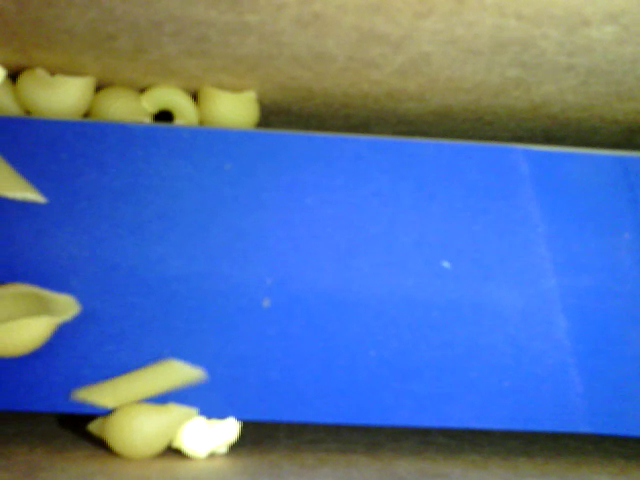elbow: (140, 82, 198, 126)
penne: (72, 353, 205, 411), (1, 159, 52, 206)
shell: (89, 399, 203, 462), (1, 284, 80, 359), (15, 66, 94, 120), (197, 80, 263, 130), (91, 85, 154, 124)
